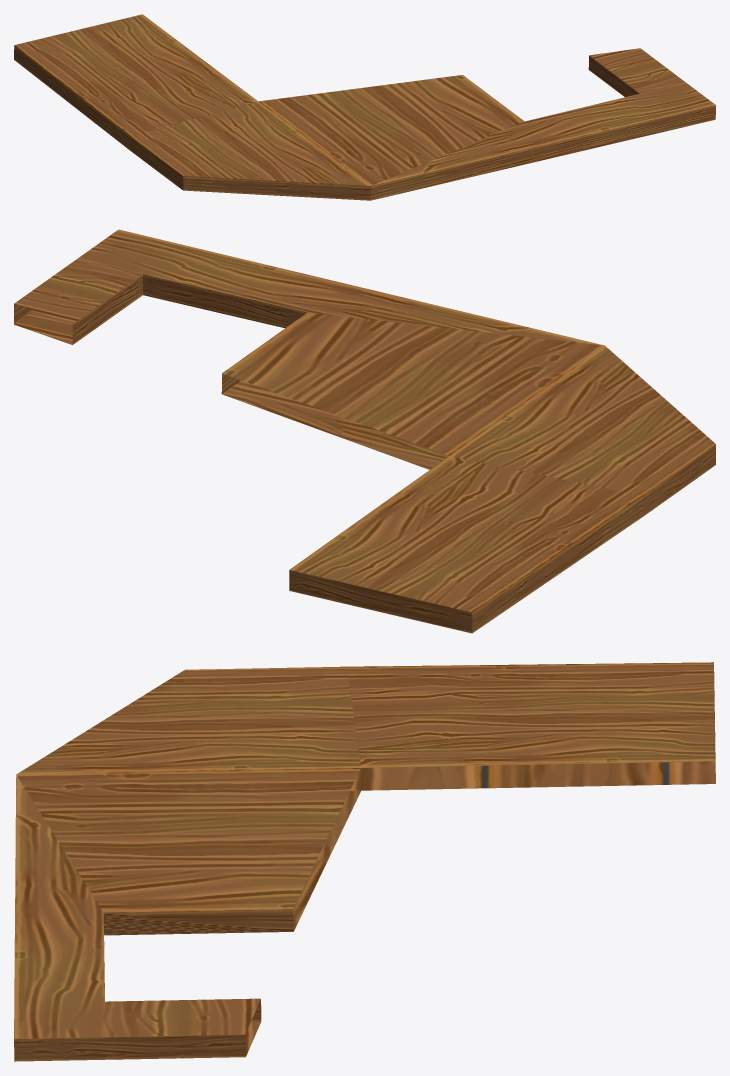
3 renders of one model, top to bottom at view 1: azimuth 30°, elevation 25°; view 2: azimuth 150°, elevation 25°; view 3: azimuth 270°, elevation 25°, orthographic. The views are drawn at different scales.
Visible parts, largest first — view 1: Cube.764; view 2: Cube.764; view 3: Cube.764.
Boxes of the visible parts, <box> form: Cube.764: <box>14,14,715,200</box>; Cube.764: <box>14,229,715,633</box>; Cube.764: <box>14,662,715,1061</box>.
Bounding box in the file's own units: 1449 × 73.53 × 1189.
1 material, 1 textured.
